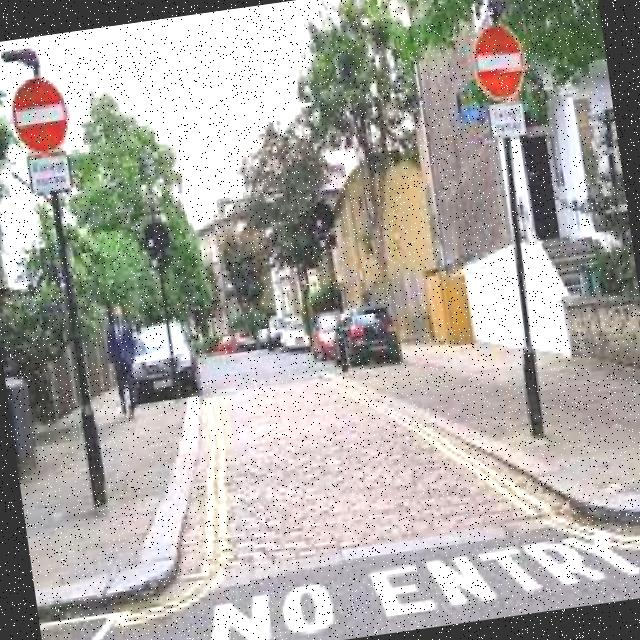Zakaz wjazdu: (7, 74, 76, 158), (466, 21, 532, 108)
